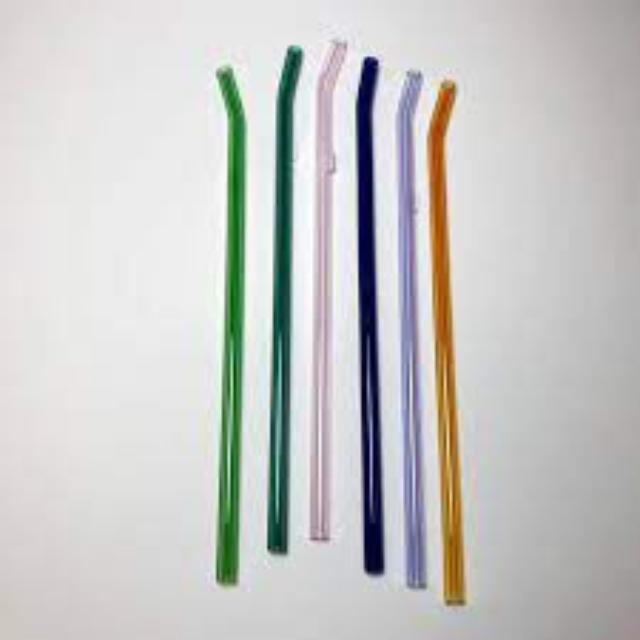Plastico descartable: (425, 79, 470, 608), (267, 45, 303, 557), (311, 43, 347, 542), (215, 67, 245, 588), (399, 79, 427, 591), (357, 57, 384, 577)
